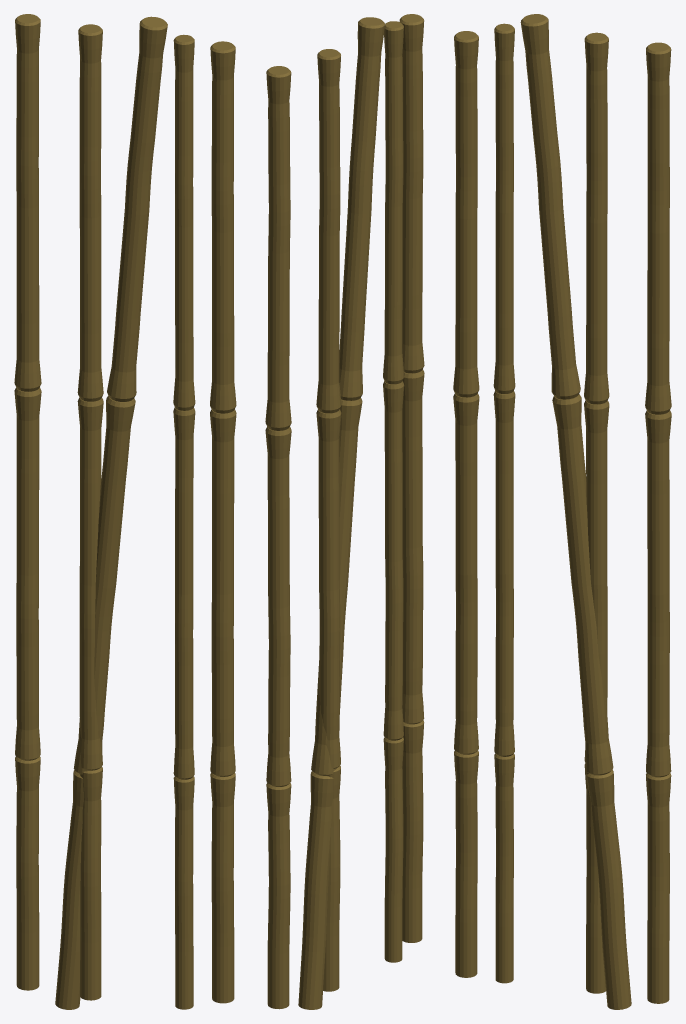
Rendered from Bamboo.FBX.
The picture shows the model from 3 angles, left to right: view 1: azimuth 90°, elevation 25°; view 2: azimuth 150°, elevation 25°; view 3: azimuth 270°, elevation 25°; orthographic projection. The views are drawn at different scales.
Parts seen in each view (by area): view 1: Cylinder33, Cylinder30, Cylinder29, Cylinder35, Cylinder26, Cylinder28, Cylinder38, Cylinder40, Cylinder37, Cylinder32, Cylinder31, Cylinder27 (+3 smaller); view 2: Cylinder33, Cylinder30, Cylinder29, Cylinder35, Cylinder26, Cylinder28, Cylinder37, Cylinder38, Cylinder40, Cylinder34, Cylinder31, Cylinder27 (+3 smaller); view 3: Cylinder33, Cylinder32, Cylinder30, Cylinder29, Cylinder26, Cylinder28, Cylinder35, Cylinder38, Cylinder40, Cylinder34, Cylinder31, Cylinder27 (+3 smaller).
Part boxes in pixels (bbox=[...]): Cylinder33: bbox=[107, 16, 167, 401]; Cylinder30: bbox=[14, 14, 41, 391]; Cylinder29: bbox=[14, 387, 41, 760]; Cylinder35: bbox=[77, 24, 103, 401]; Cylinder26: bbox=[210, 41, 236, 413]; Cylinder28: bbox=[210, 409, 236, 776]; Cylinder38: bbox=[173, 34, 195, 410]; Cylinder40: bbox=[173, 407, 195, 779]; Cylinder37: bbox=[77, 397, 103, 770]; Cylinder32: bbox=[73, 395, 135, 774]; Cylinder31: bbox=[15, 756, 40, 990]; Cylinder27: bbox=[210, 772, 235, 1003]; Cylinder33: bbox=[339, 17, 384, 400]; Cylinder30: bbox=[265, 66, 291, 430]; Cylinder29: bbox=[265, 427, 291, 786]; Cylinder35: bbox=[316, 49, 341, 413]; Cylinder26: bbox=[399, 14, 424, 373]; Cylinder28: bbox=[402, 369, 424, 724]; Cylinder37: bbox=[316, 409, 341, 768]; Cylinder38: bbox=[383, 21, 404, 384]; Cylinder40: bbox=[383, 381, 404, 740]; Cylinder34: bbox=[298, 771, 333, 1009]; Cylinder31: bbox=[266, 783, 291, 1009]; Cylinder27: bbox=[402, 720, 424, 942]; Cylinder33: bbox=[520, 14, 580, 399]; Cylinder32: bbox=[552, 394, 613, 775]; Cylinder30: bbox=[645, 42, 671, 414]; Cylinder29: bbox=[645, 410, 671, 777]; Cylinder26: bbox=[453, 31, 479, 397]; Cylinder28: bbox=[453, 393, 479, 754]; Cylinder35: bbox=[584, 32, 609, 404]; Cylinder38: bbox=[493, 23, 515, 393]; Cylinder40: bbox=[493, 390, 515, 756]; Cylinder34: bbox=[586, 770, 631, 1009]; Cylinder31: bbox=[646, 773, 671, 1003]; Cylinder27: bbox=[454, 751, 478, 977].
Size of the model in its own units: 6.9 by 103 by 20.88.
